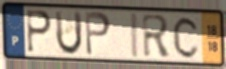C: (172, 15, 201, 61)
I: (129, 11, 140, 60)
P: (84, 10, 113, 58), (25, 8, 53, 55)
R: (141, 12, 173, 59)
U: (53, 9, 84, 58)
